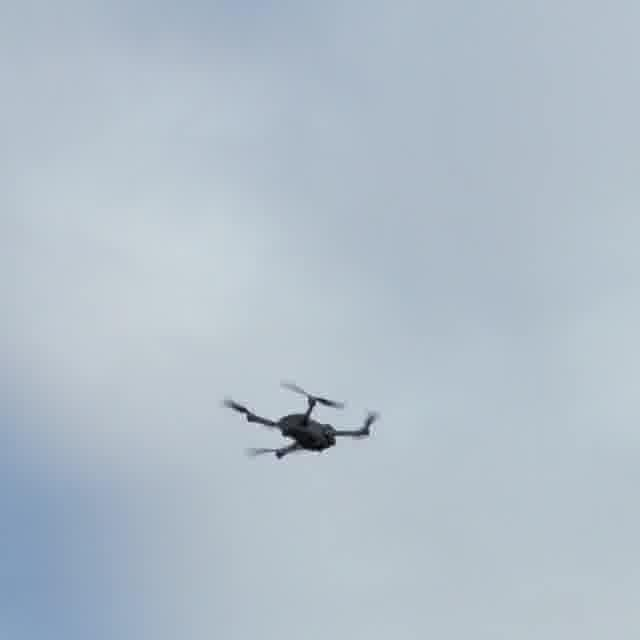Drohne: (225, 383, 377, 458)
